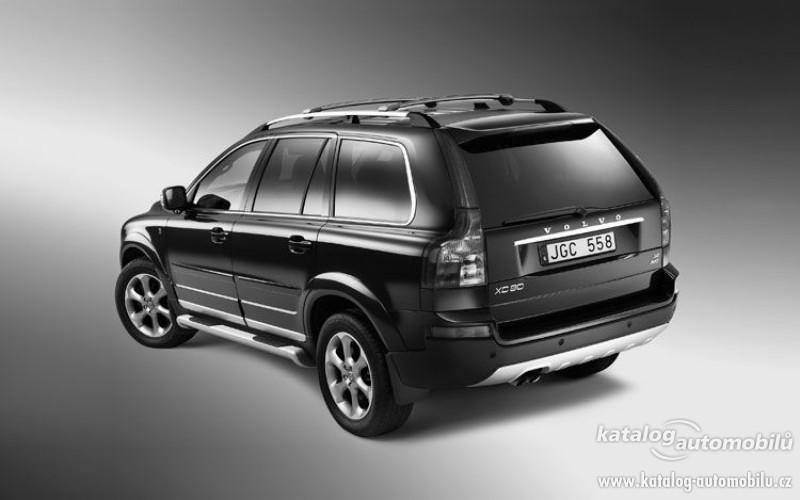car: (115, 96, 684, 441)
